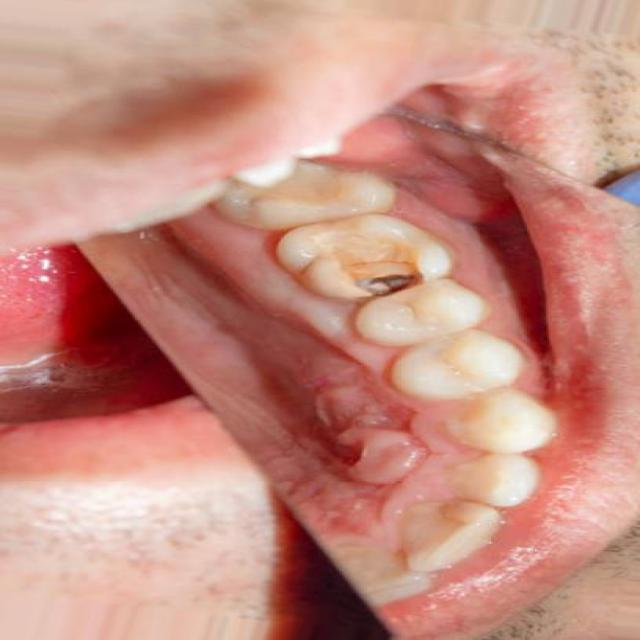caries: (302, 218, 441, 307)
